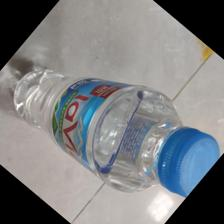Lavie: (10, 66, 224, 197)
